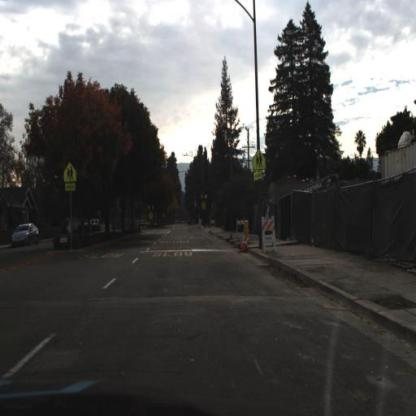car: (12, 222, 40, 243), (85, 215, 113, 234)
